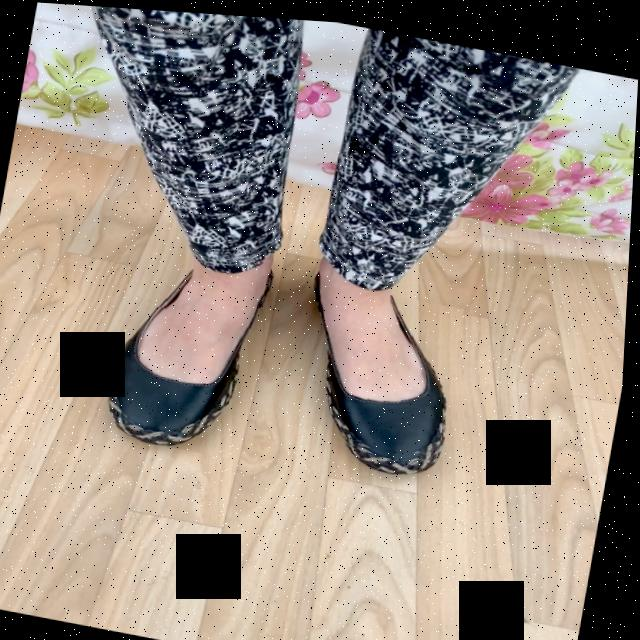shoe: (111, 256, 273, 444), (324, 280, 449, 448)
